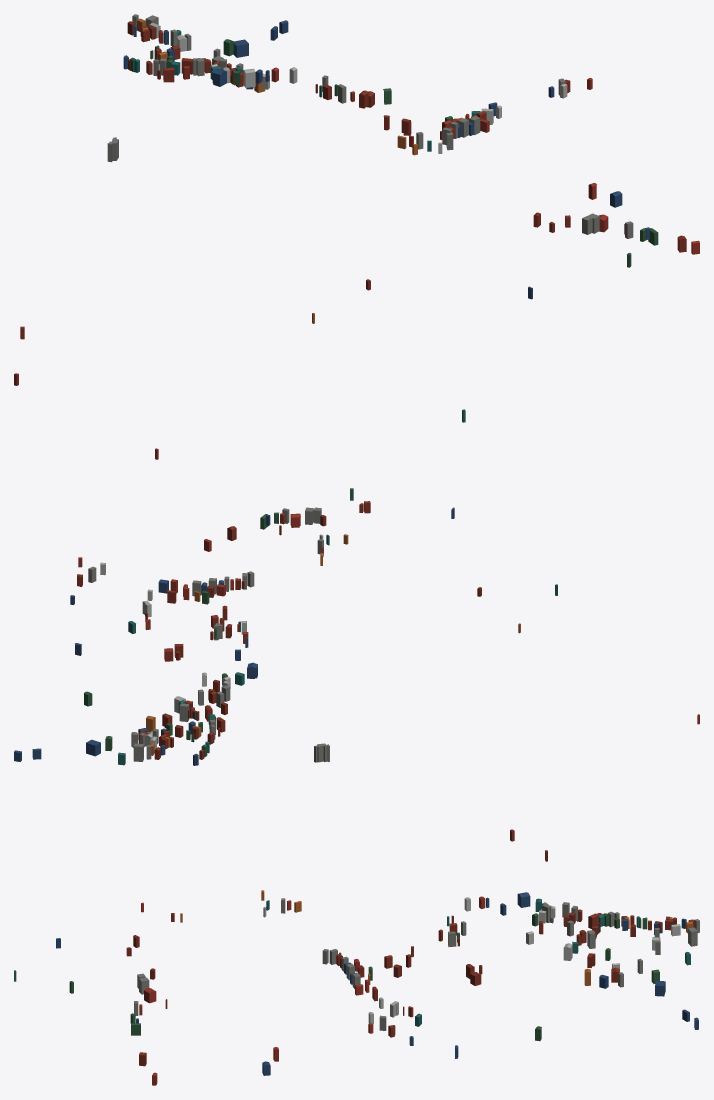
Rendered from near-15-27365-14877.f001fcae.glb.
The picture shows the model from 3 angles, top to bottom: view 1: azimuth 30°, elevation 25°; view 2: azimuth 150°, elevation 25°; view 3: azimuth 270°, elevation 25°; orthographic projection. The views are drawn at different scales.
Size of the model in its own units: 967 by 371 by 1166.
